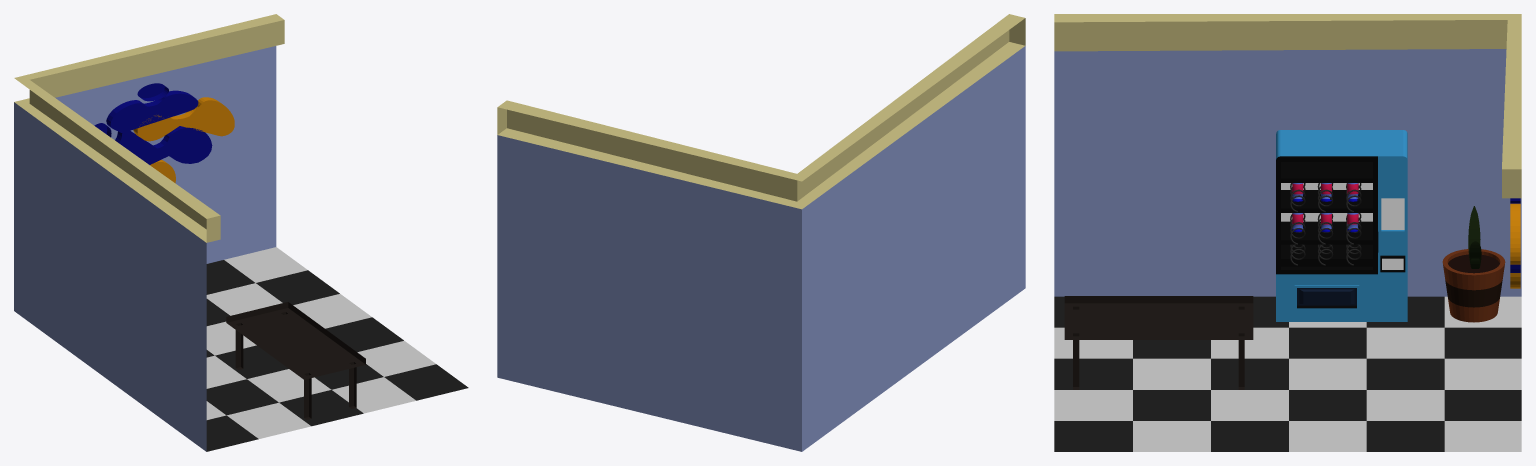
The model's file is Allanim0019.obj.
The picture shows the model from 3 angles, left to right: view 1: azimuth 30°, elevation 25°; view 2: azimuth 150°, elevation 25°; view 3: azimuth 270°, elevation 25°; orthographic projection. The views are drawn at different scales.
Visible parts, largest first — view 1: ruangan_Cube.003, meja_Cube.004, logo.001_Circle.019, logo_Circle.006, logo.005_Circle.023; view 2: ruangan_Cube.003; view 3: ruangan_Cube.003, vending_machine_Cube.001, meja_Cube.004, pot_bunga_Cylinder, per_second\_Spiral.010, Plane.007, logo_Circle.006.
Boxes of the visible parts, <box> form: ruangan_Cube.003: <box>14,14,468,451</box>; meja_Cube.004: <box>226,302,365,419</box>; logo.001_Circle.019: <box>115,126,212,164</box>; logo_Circle.006: <box>133,97,234,141</box>; logo.005_Circle.023: <box>106,90,198,133</box>; ruangan_Cube.003: <box>497,14,1025,451</box>; ruangan_Cube.003: <box>1054,14,1521,451</box>; vending_machine_Cube.001: <box>1276,130,1407,321</box>; meja_Cube.004: <box>1064,296,1253,389</box>; pot_bunga_Cylinder: <box>1442,249,1505,322</box>; per_second\_Spiral.010: <box>1290,183,1361,265</box>; Plane.007: <box>1468,206,1481,268</box>; logo_Circle.006: <box>1510,203,1520,264</box>.
Bounding box in the file's own units: 11.73 × 9.95 × 14.9.
